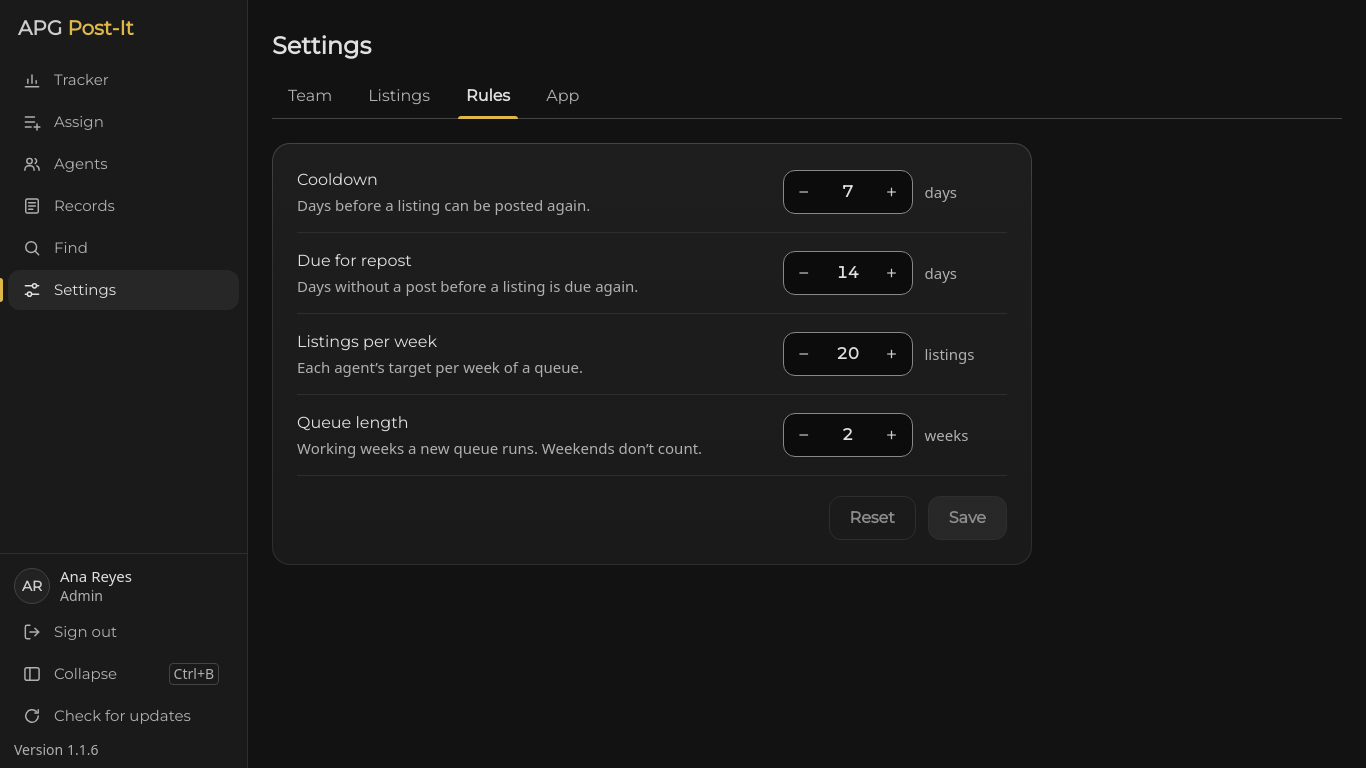
Scenario: Settings → Rules › checks each rule, then saves them through setRules
This screenshot has width=1366, height=768.
Check: the text "Days before a listing can be posted again." is shown, box [297,195,590,215]
Check: the button "Save" is disabled, box [928,496,1007,540]
Replace the text in the field labelled "Cooldown" with "90" at (848, 192), box [824,171,872,213]
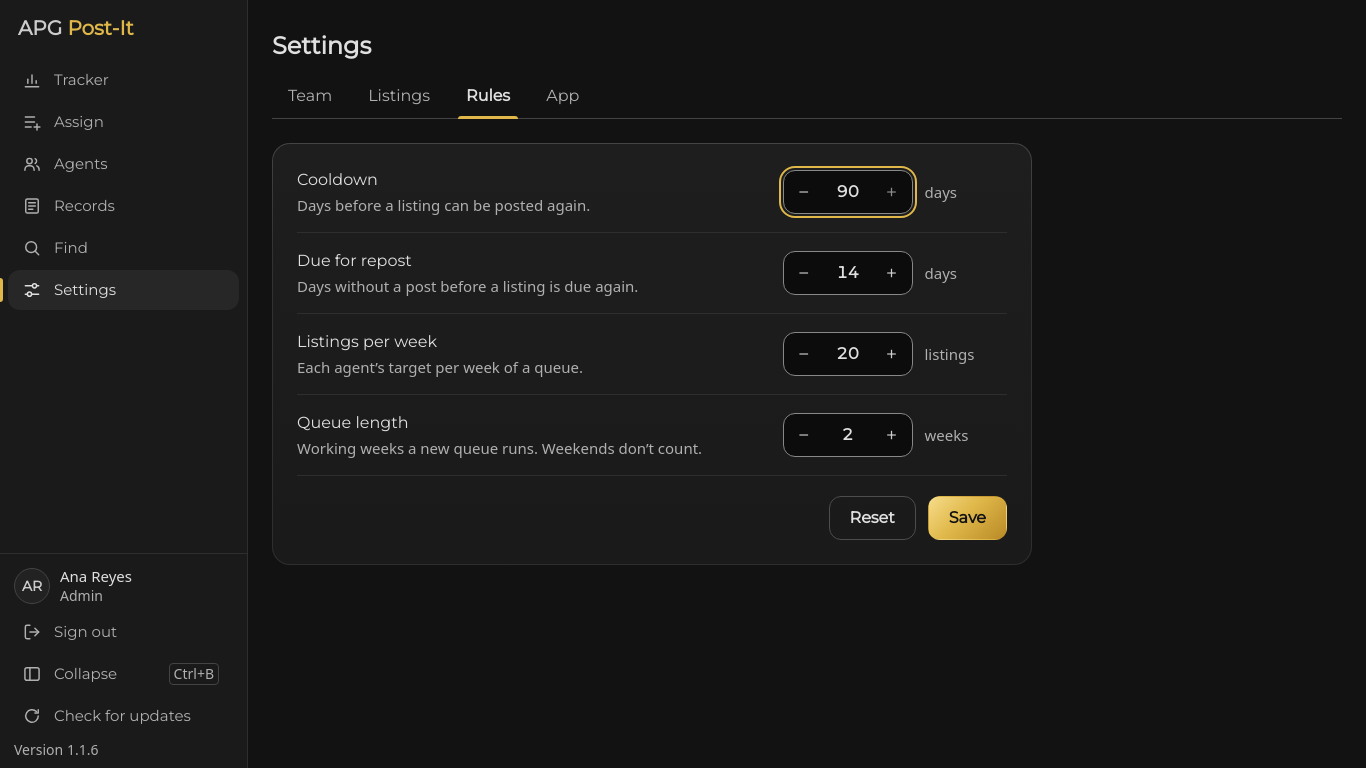
Click the button "Save" at (967, 518), box [928,496,1007,540]
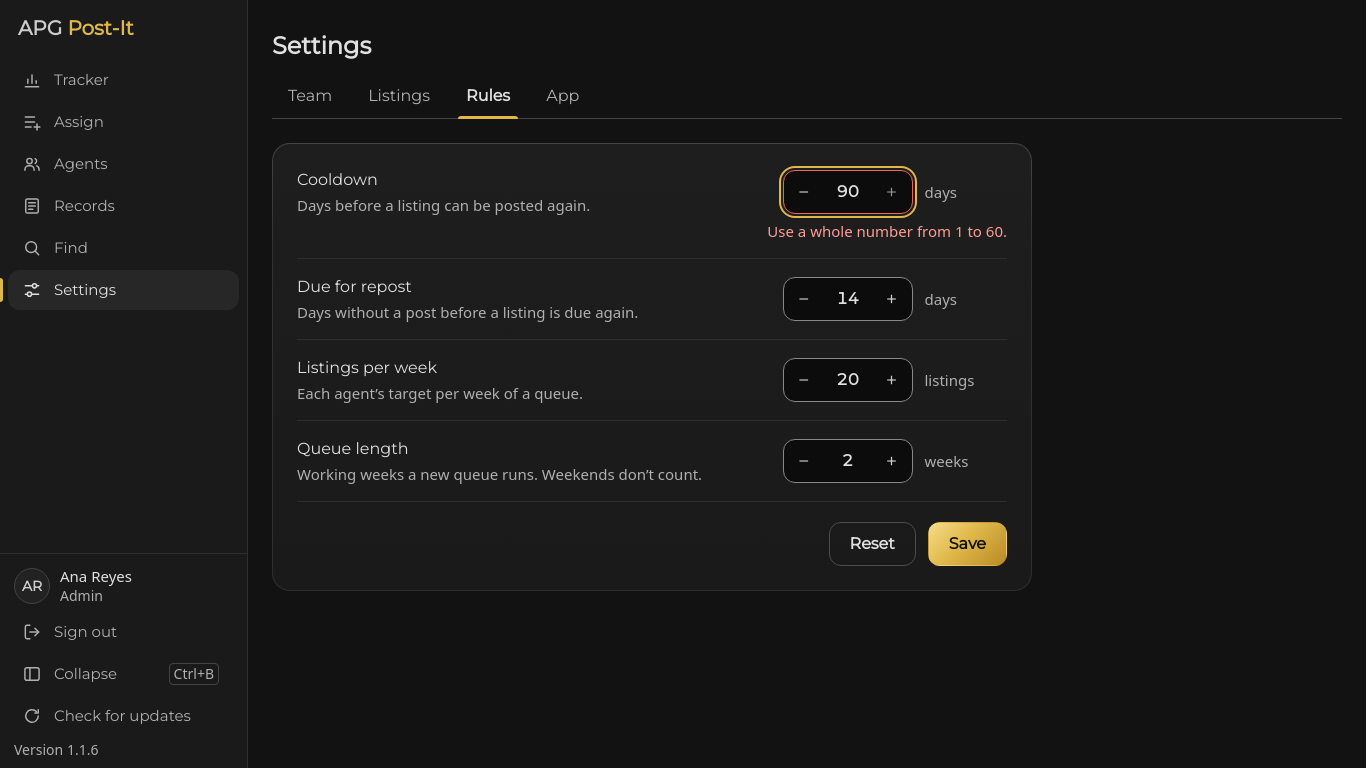
Check: the text "Use a whole number from 1 to 60." is shown, box [767,220,1007,242]
Replace the text in the field labelled "Cooldown" with "10" at (848, 192), box [824,171,872,213]
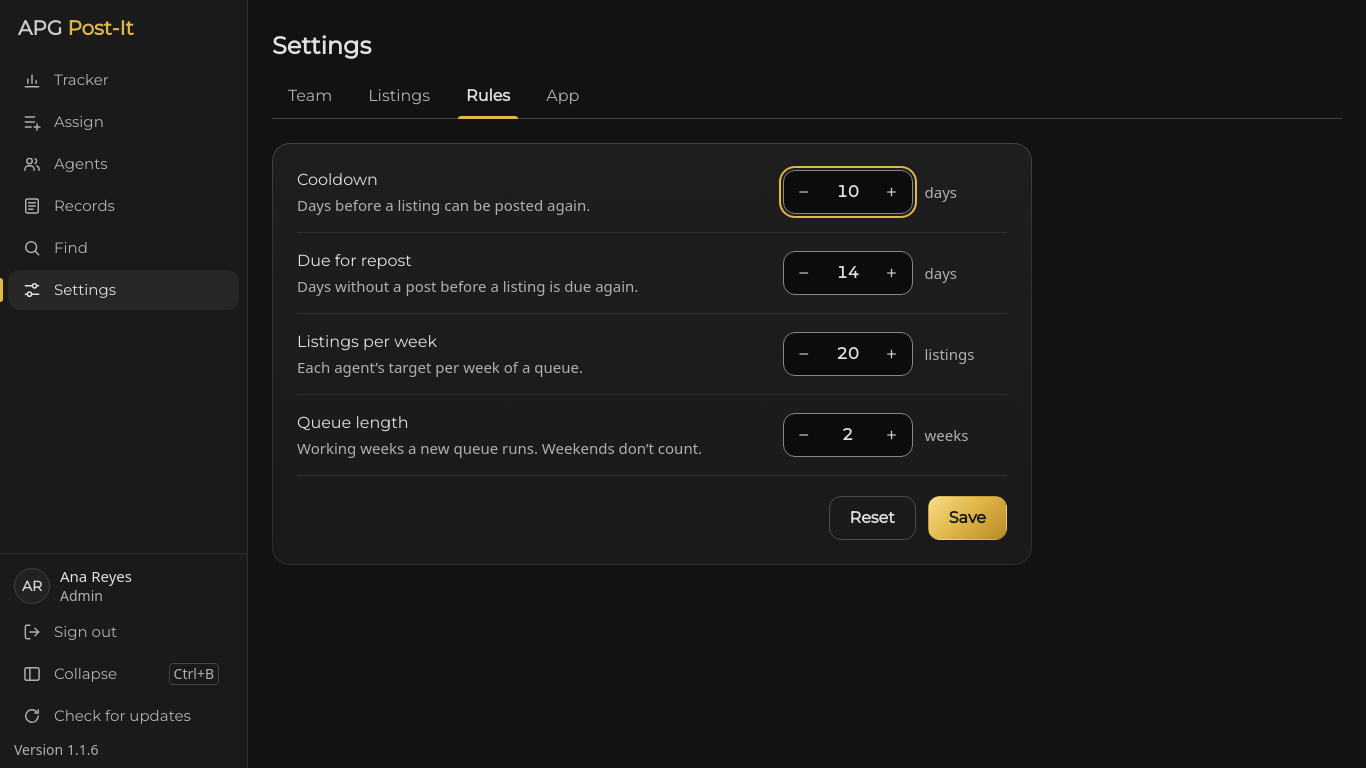
Click the button named "More: Listings per week" at (892, 354), box [872,333,912,375]
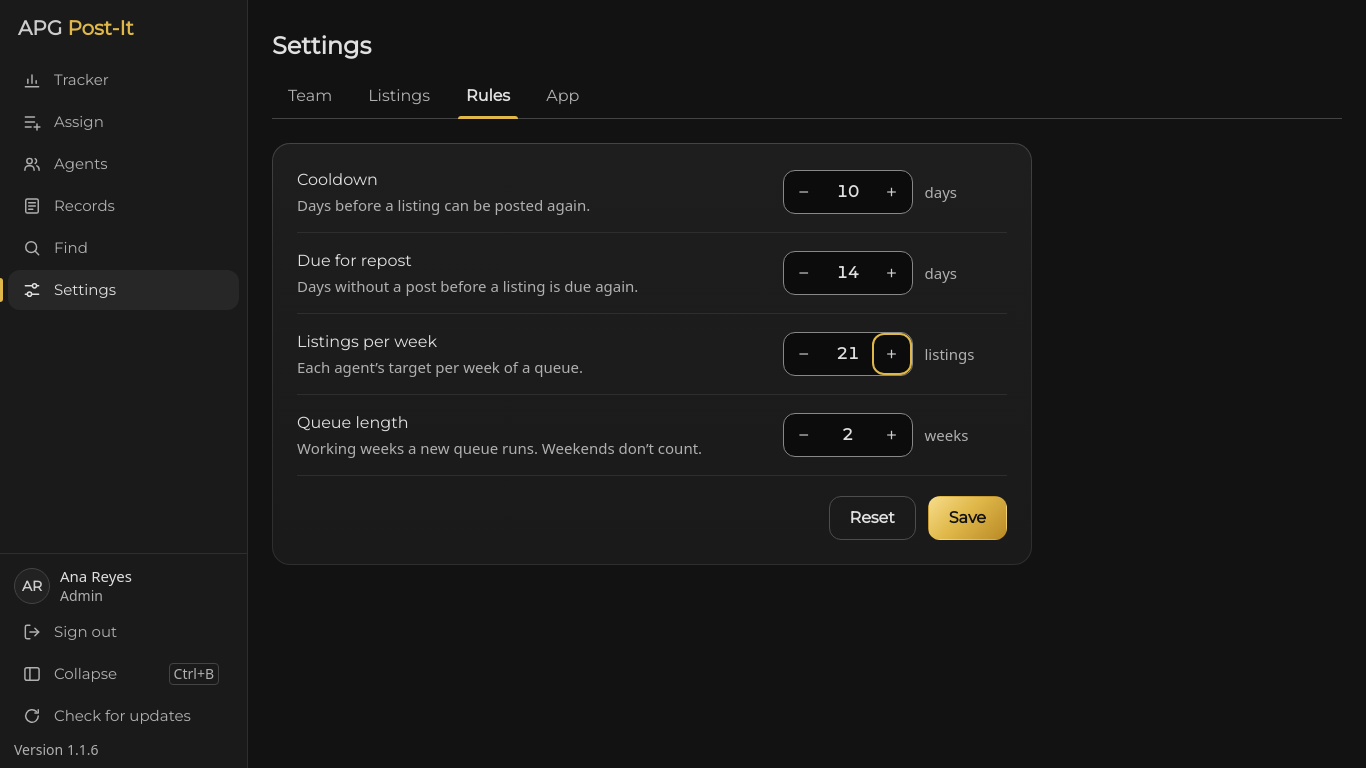
Click the button named "Fewer: Due for repost" at (804, 273), box [784,252,824,294]
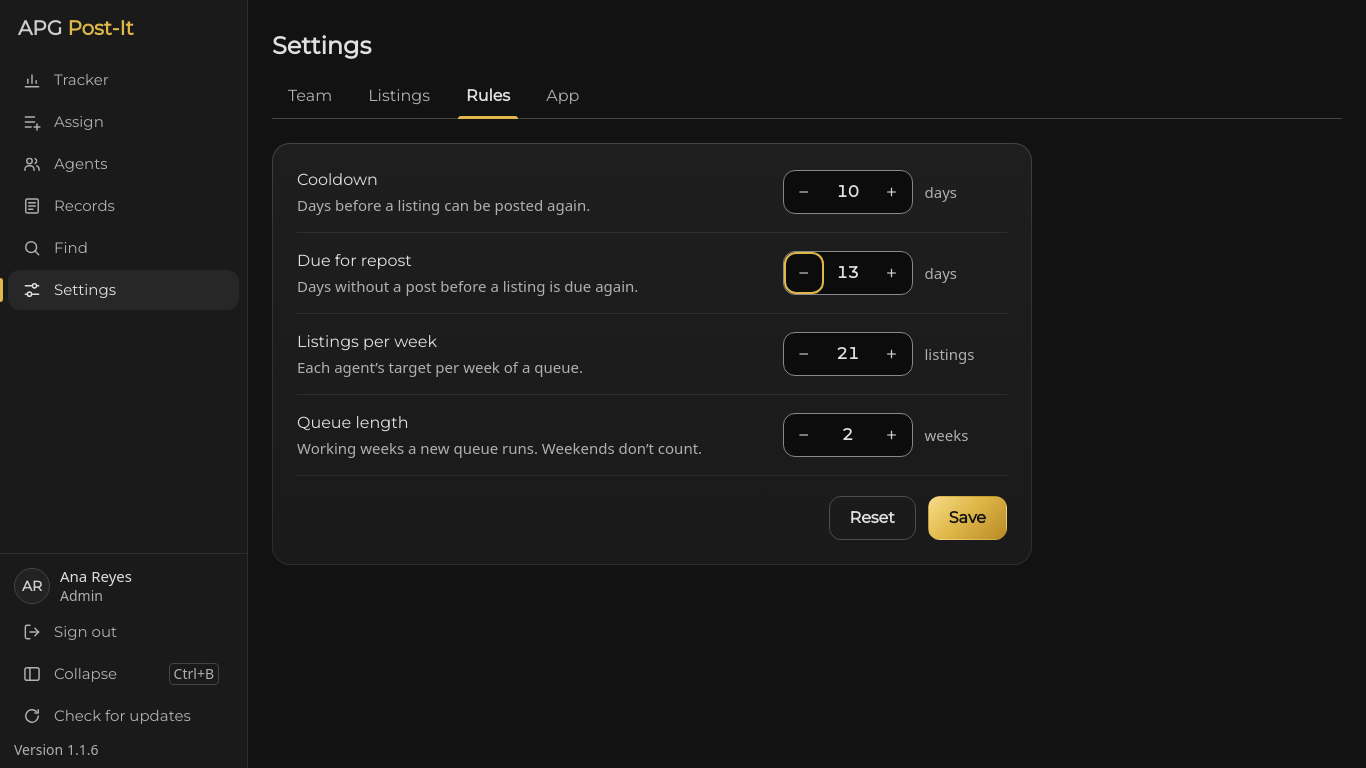
Click the button "Save" at (967, 518), box [928,496,1007,540]
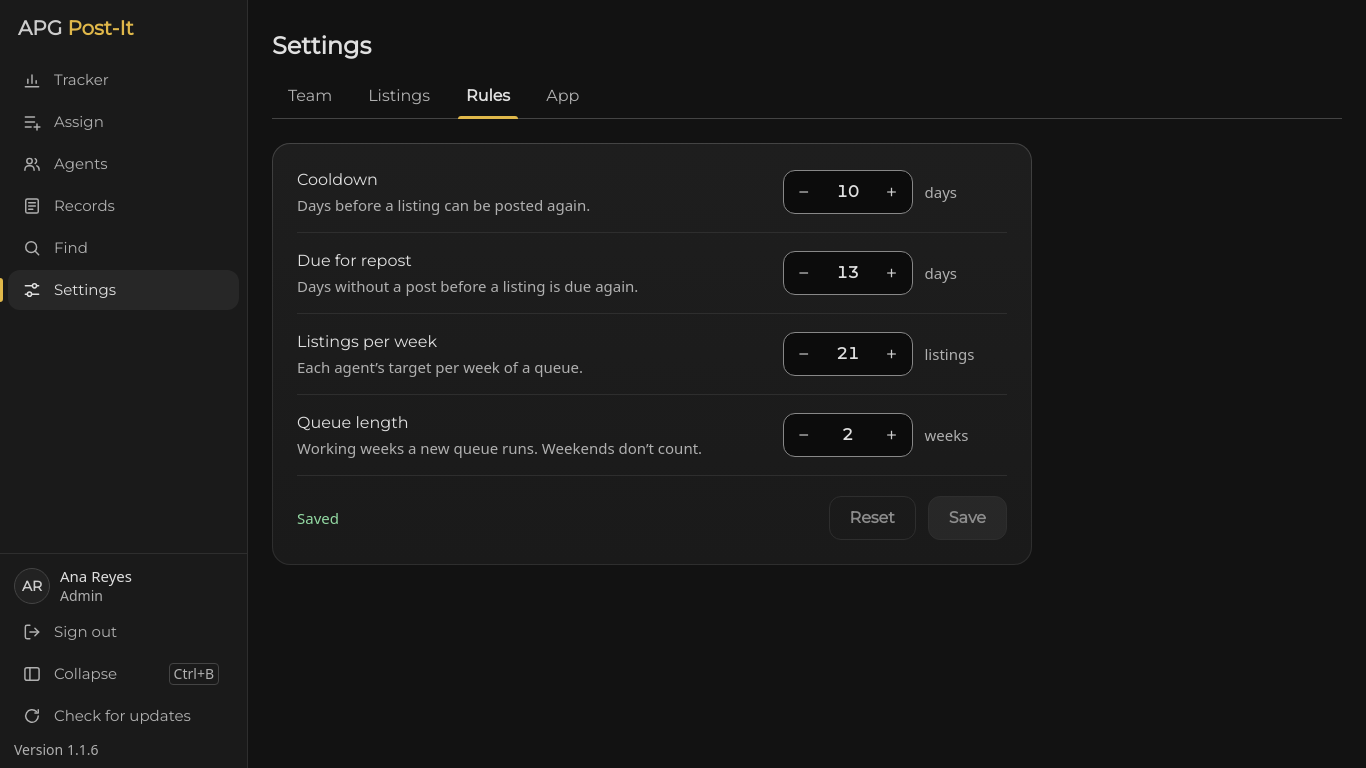
Check: the text "Saved" is shown, box [297,507,339,529]
Check: the button "Save" is disabled, box [928,496,1007,540]
